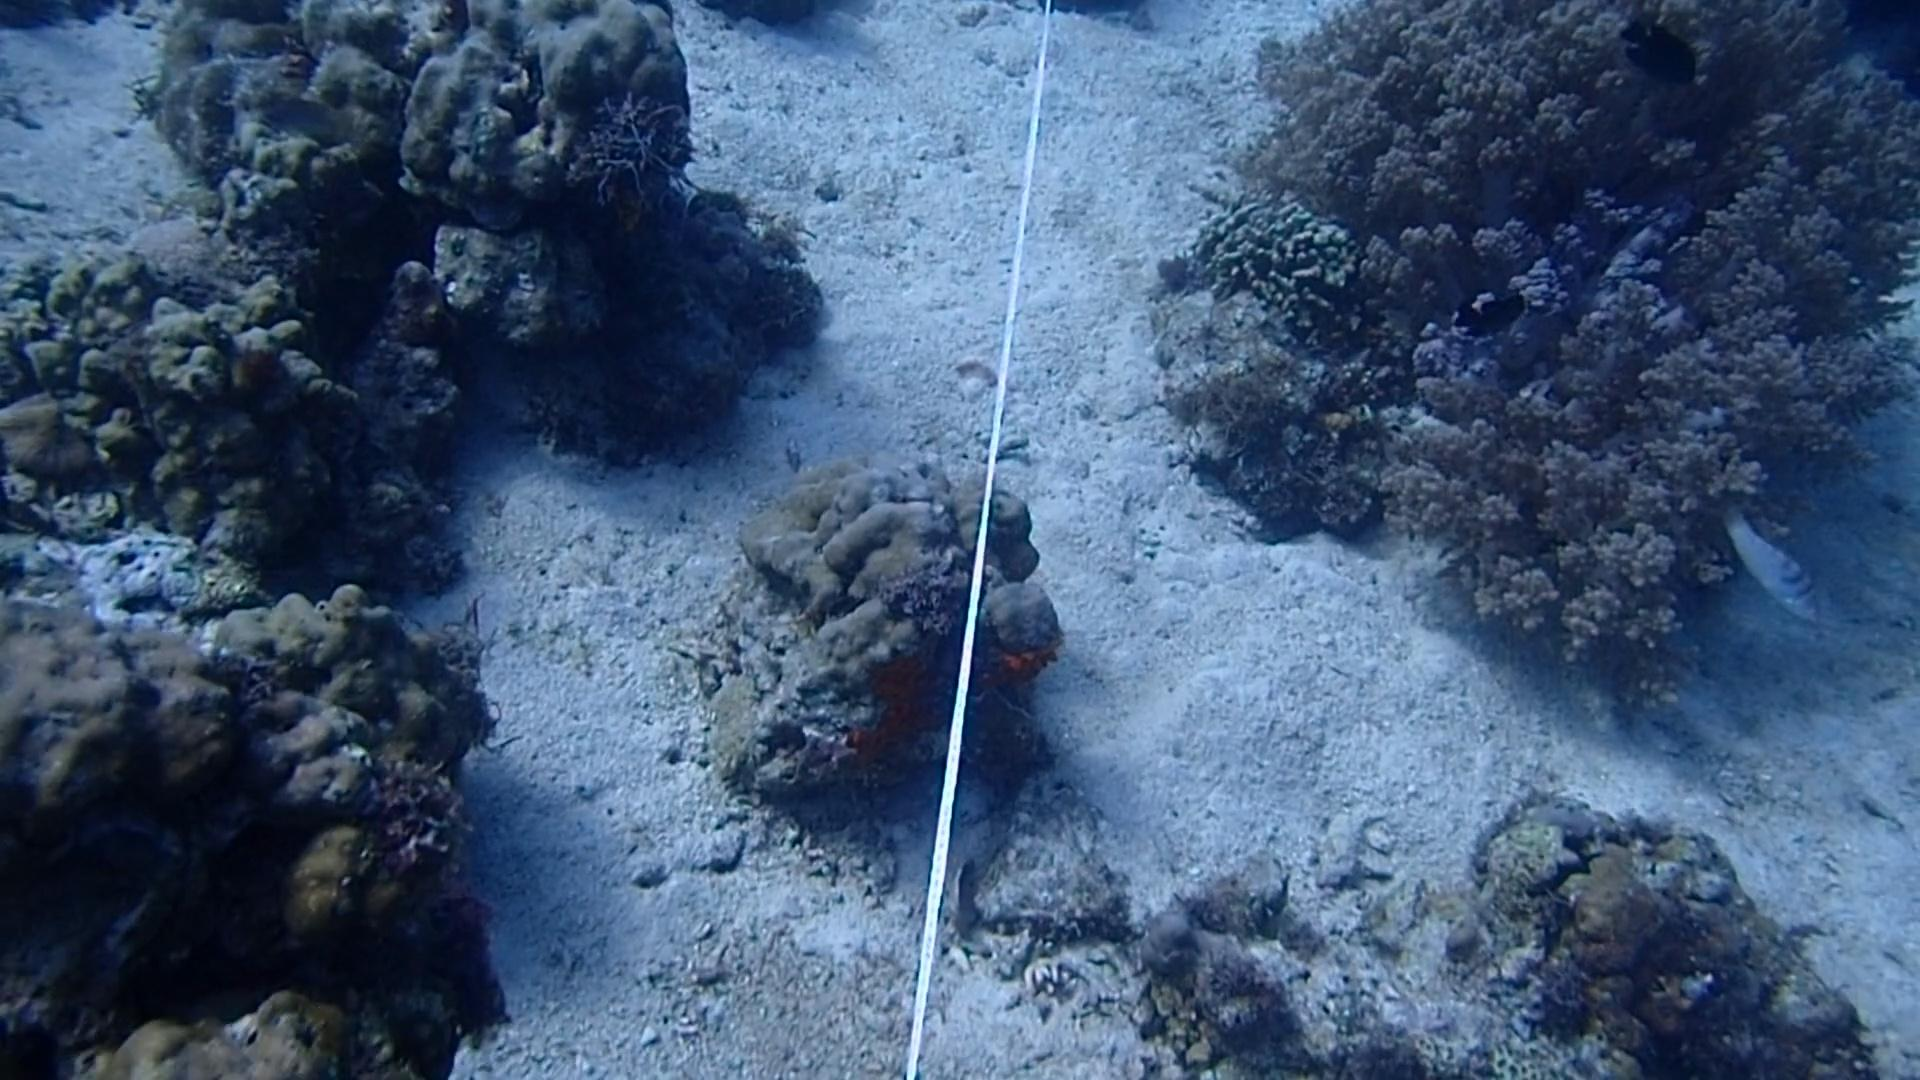Dark Fish: (1613, 15, 1709, 90), (1451, 281, 1530, 344)
Light Fish w Back Stripes: (1709, 496, 1824, 633)
